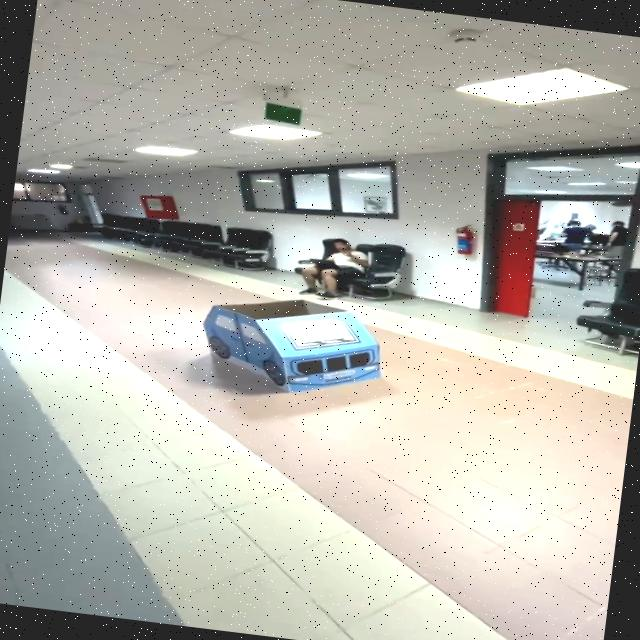blue_car: (169, 281, 409, 412)
